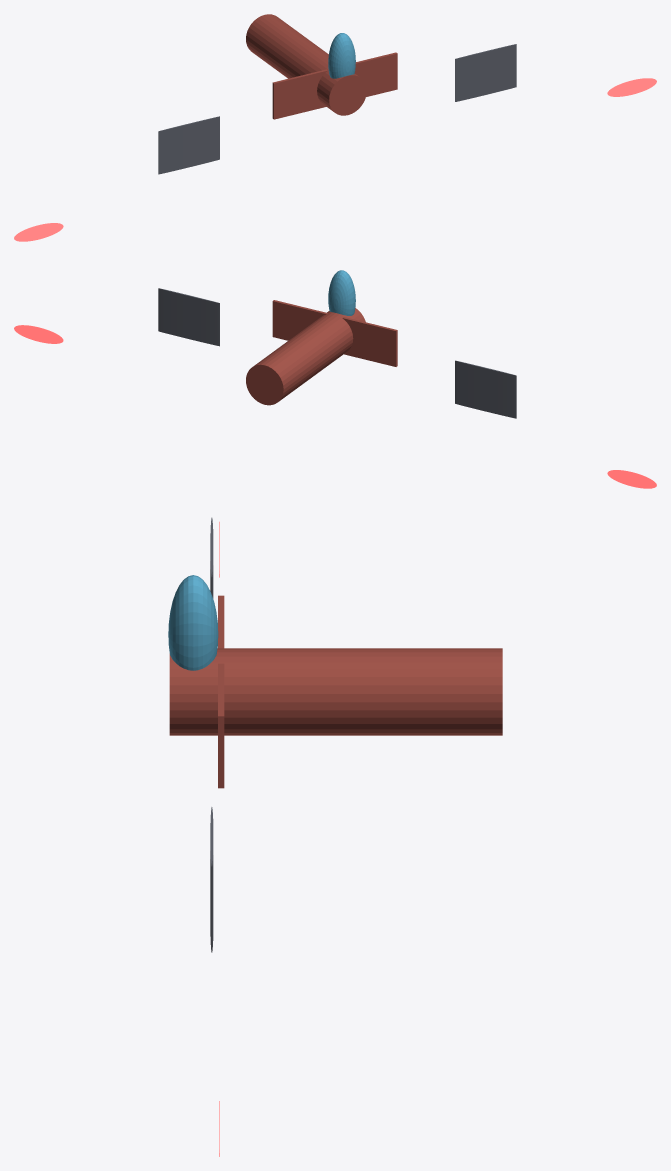
The model's file is SU_KorshunGunship_LOD1.glb.
3 views of the same model, one above another, from view 1: azimuth 30°, elevation 25°; view 2: azimuth 150°, elevation 25°; view 3: azimuth 270°, elevation 25° (orthographic). The views are drawn at different scales.
Parts seen in each view (by area): view 1: Cylinder, Cube, Cylinder.001, Cylinder.003, Sphere, Cylinder.004, Cylinder.002; view 2: Cylinder, Cube, Cylinder.001, Cylinder.003, Sphere, Cylinder.004, Cylinder.002; view 3: Cylinder, Sphere, Cube.
Boxes of the visible parts, x1,y1,x2,y2 form: Cylinder: (246,14,366,115); Cube: (272,52,397,119); Cylinder.001: (158,116,219,174); Cylinder.003: (455,44,516,101); Sphere: (328,33,355,78); Cylinder.004: (607,78,656,96); Cylinder.002: (14,223,63,241); Cylinder: (246,308,365,405); Cube: (272,300,397,366); Cylinder.001: (455,360,516,418); Cylinder.003: (158,288,219,346); Sphere: (328,270,355,315); Cylinder.004: (14,325,63,343); Cylinder.002: (607,470,656,488); Cylinder: (169,648,502,735); Sphere: (168,575,218,670); Cube: (218,595,224,788).
Size of what is drawn, in the model's own units: 18.72 by 3.86 by 4.21.
